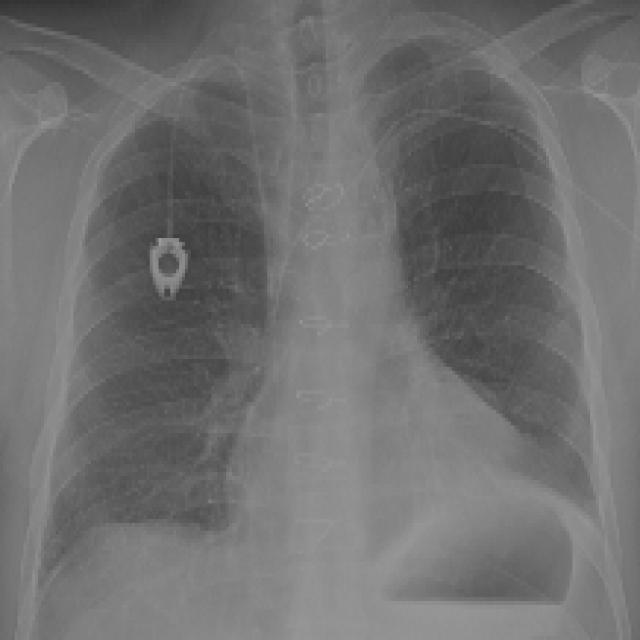coronavirus: (1, 3, 640, 640)
